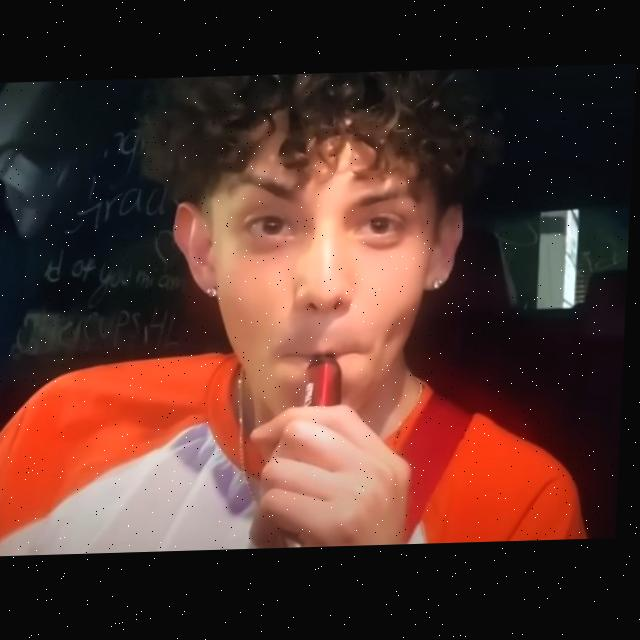vape: (303, 353, 349, 409)
